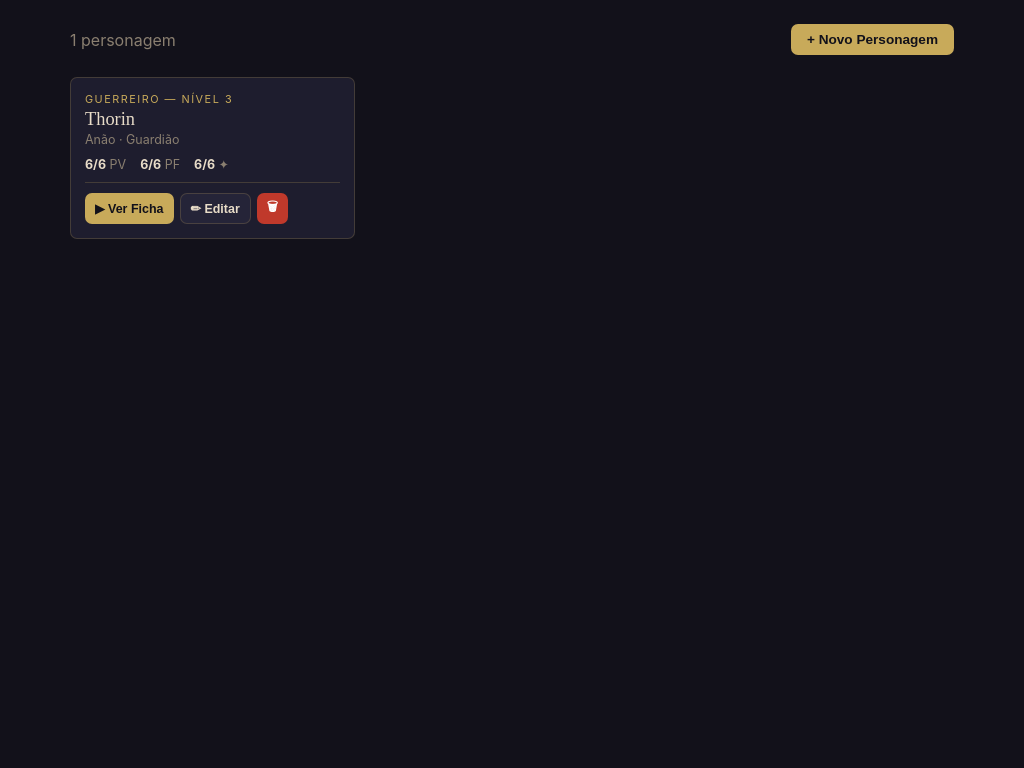
ListScreen — modal de exclusão › botão 🗑 abre modal de confirmação
This screenshot has width=1024, height=768.
Click the button "🗑".
click(272, 208)  # box left=257, top=193, right=288, bottom=224
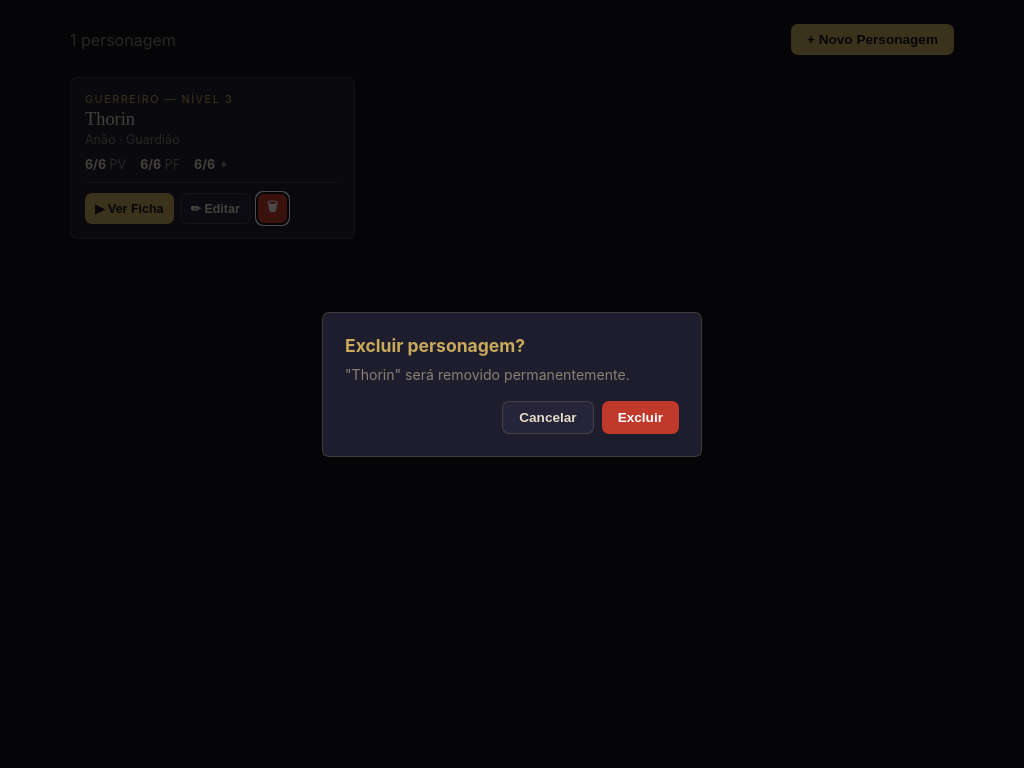
Now the heading "Excluir personagem?" is shown, box left=345, top=334, right=525, bottom=356
Now the text "\"Thorin\" será removido permanentemente." is shown, box left=345, top=366, right=679, bottom=382
